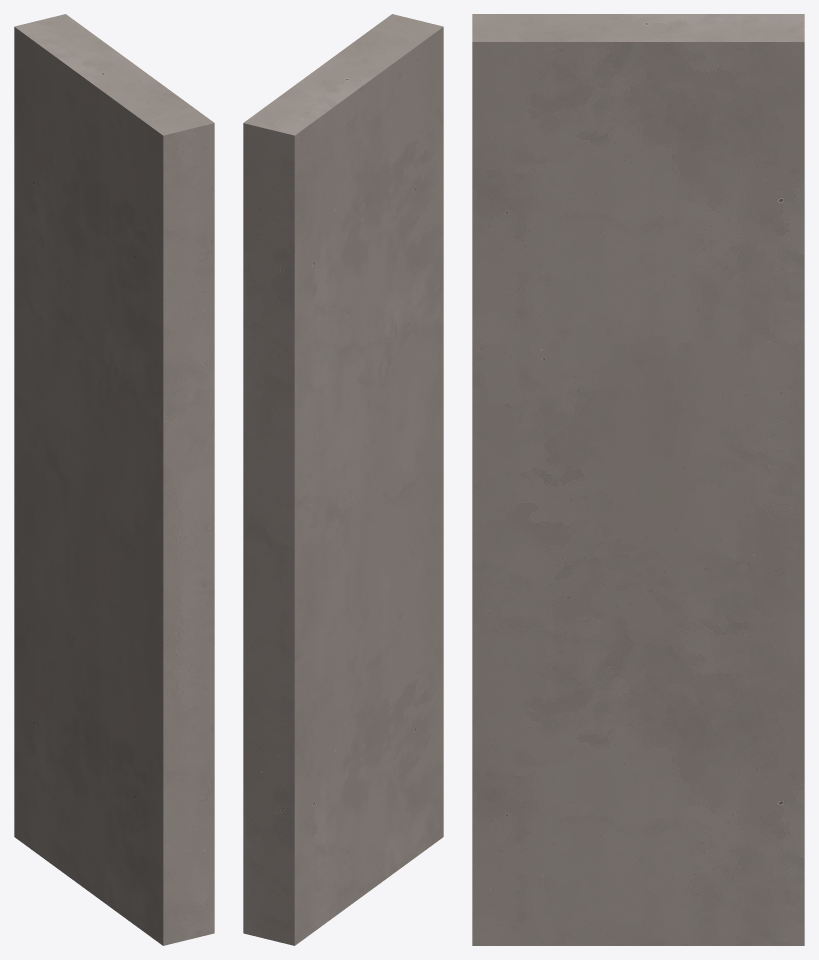
Rendered from SM_ENV_K1_COLUMN_1X3_01.fbx.
3 views of the same model, side by side, from view 1: azimuth 30°, elevation 25°; view 2: azimuth 150°, elevation 25°; view 3: azimuth 270°, elevation 25° (orthographic). The views are drawn at different scales.
Visible parts, largest first — view 1: SM_ENV_K1_COLUMN_1X3_01; view 2: SM_ENV_K1_COLUMN_1X3_01; view 3: SM_ENV_K1_COLUMN_1X3_01.
Part boxes in pixels (bbox=[...]): SM_ENV_K1_COLUMN_1X3_01: bbox=[14, 14, 214, 945]; SM_ENV_K1_COLUMN_1X3_01: bbox=[243, 14, 443, 945]; SM_ENV_K1_COLUMN_1X3_01: bbox=[472, 14, 804, 945].
Bounding box in the file's own units: 0.2 × 3 × 1.
